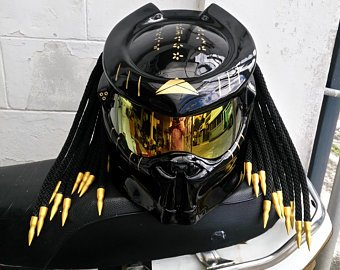with_helmet: (76, 1, 273, 227)
